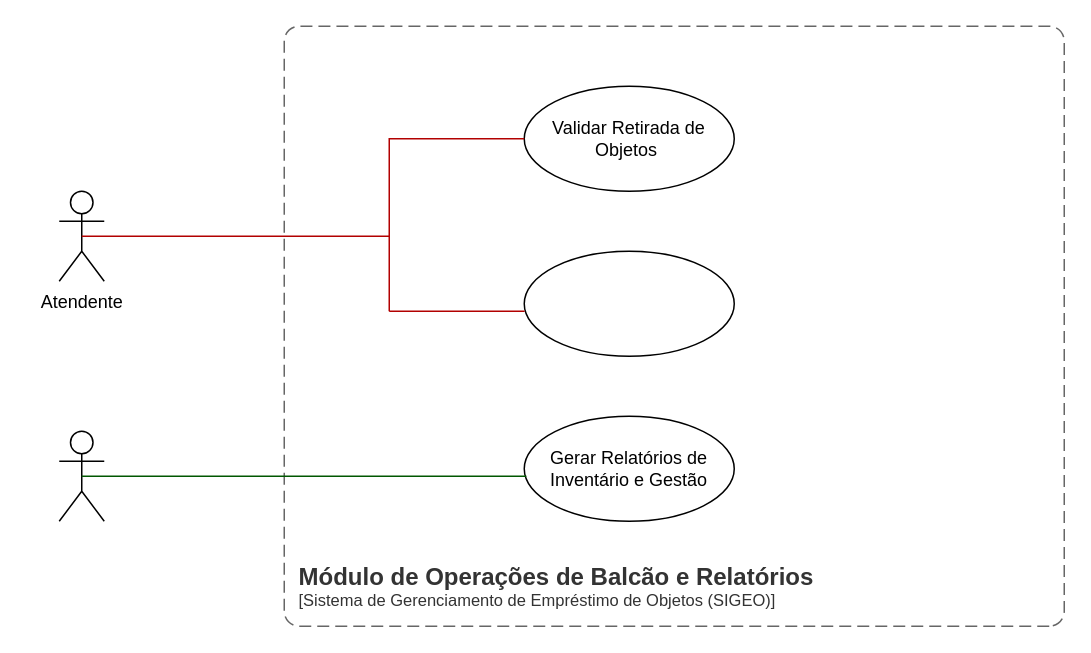
The diagram is 1091 pixels wide and 653 high, and some of its shapes have lost their labels. The centre of each missing label's shape, as x and y in pixels:
Administrador: the point at 81,475
Validar Devolução e Registrar Avarias: the point at 628,303
